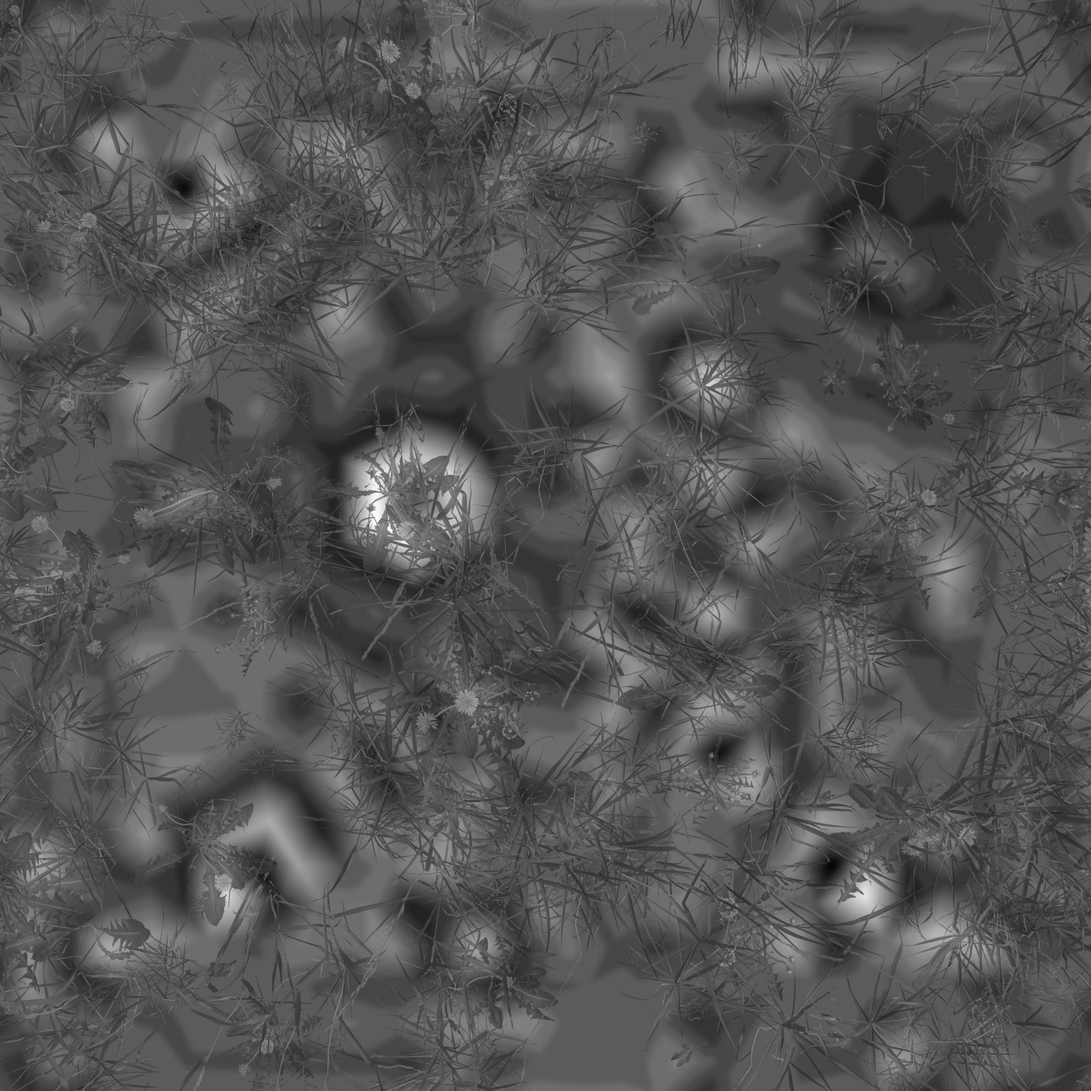landmine: (333, 433, 491, 580), (834, 197, 959, 311)
